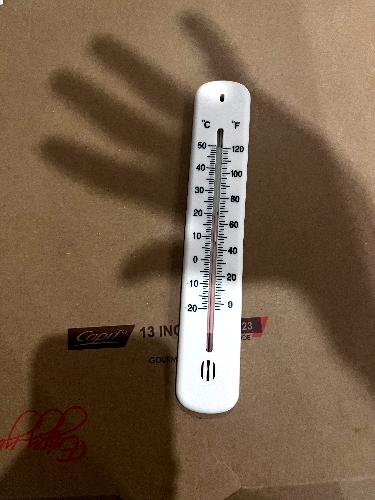thermo: (172, 78, 262, 417)
